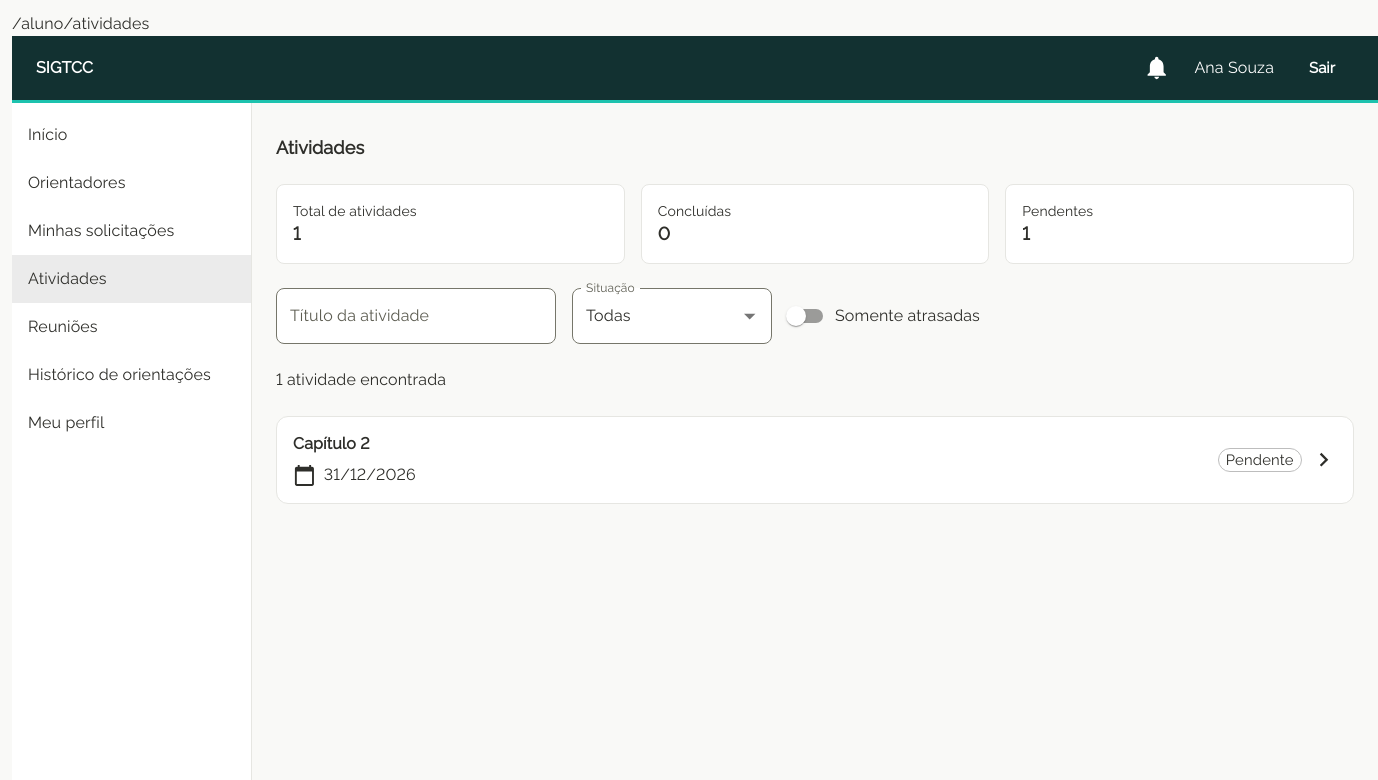
ActivitiesPage: a lista do aluno › o cartão inteiro abre o detalhe, e não só o título
Click the text "31/12/2026".
click(370, 475)  # box [324,463,416,487]
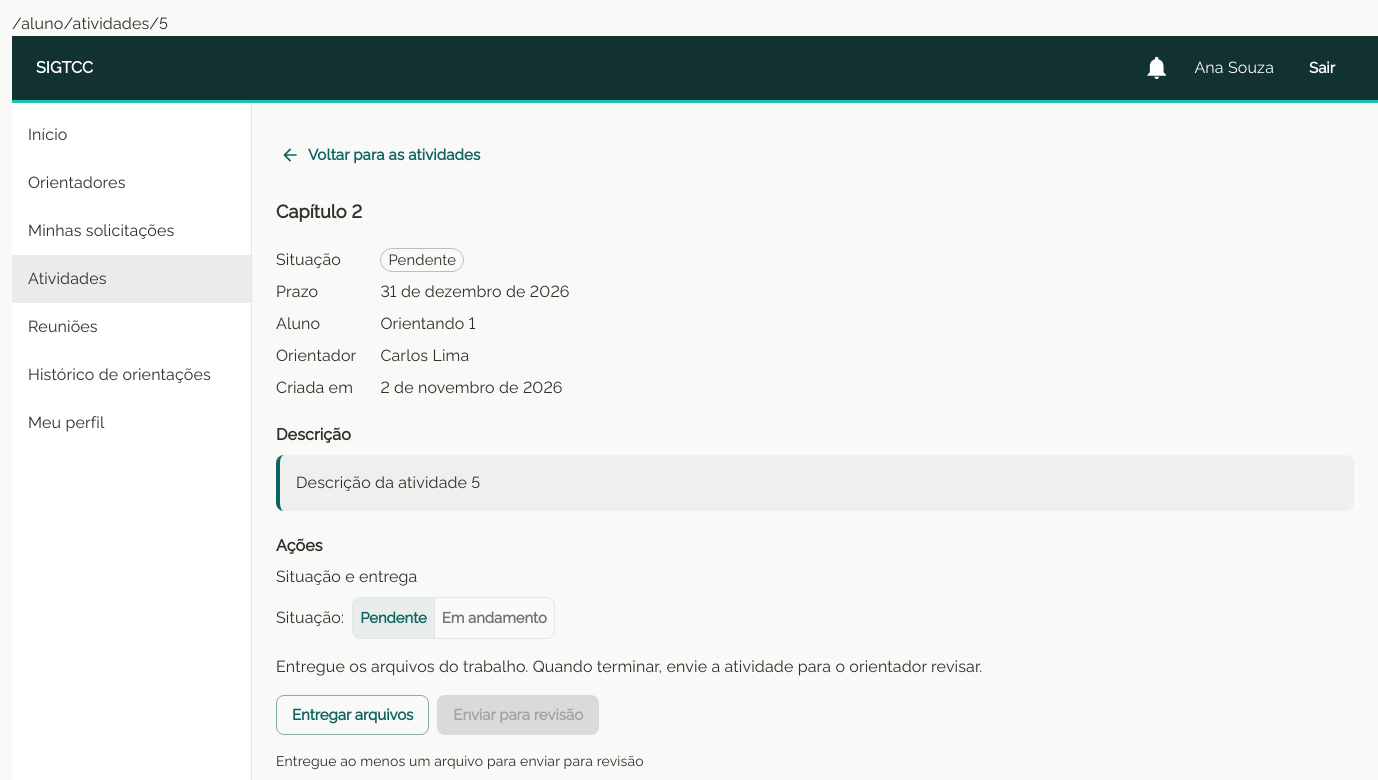
Expected: the text with test id "location" reads "/aluno/atividades/5", [12,14,168,33]
